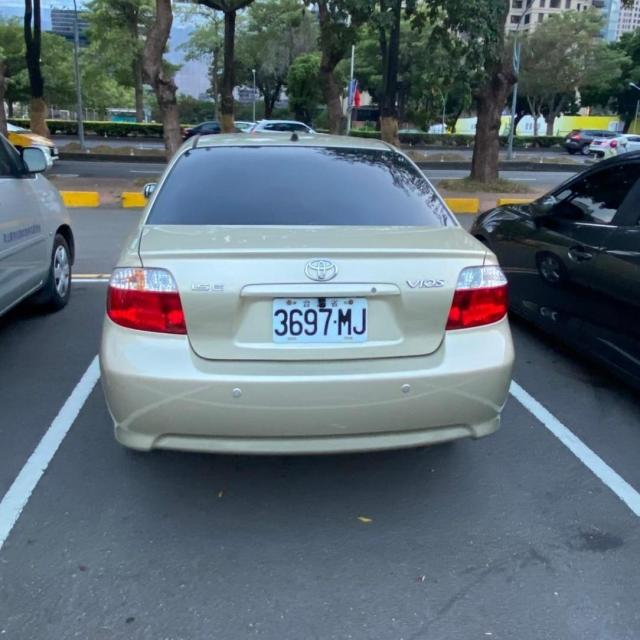W: (270, 293, 371, 348)
